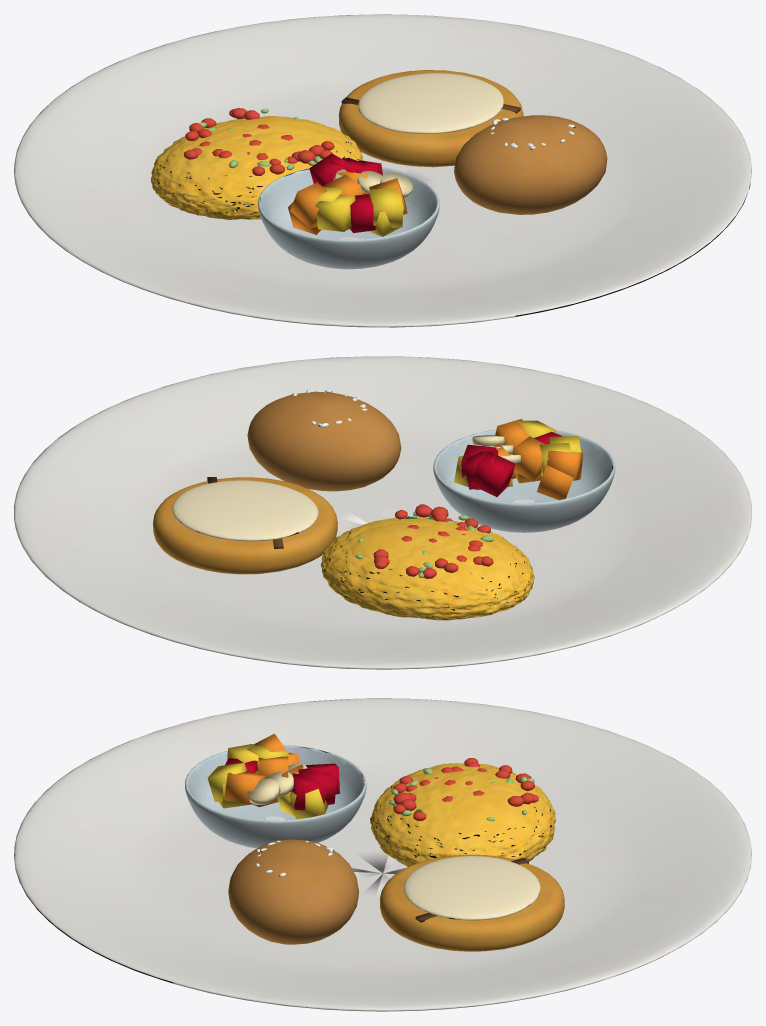
The model's file is desayuno.glb.
3 views of the same model, one above another, from view 1: azimuth 30°, elevation 25°; view 2: azimuth 150°, elevation 25°; view 3: azimuth 270°, elevation 25° (orthographic).
Parts seen in each view (by area): view 1: desayuno; view 2: desayuno; view 3: desayuno.
Boxes of the visible parts, x1,y1,x2,y2 form: desayuno: (14, 14, 751, 327); desayuno: (14, 356, 751, 669); desayuno: (14, 698, 751, 1011).
Bounding box in the file's own units: 0.3222 × 0.047 × 0.3222.
Materials: 1 (1 with a texture image).
